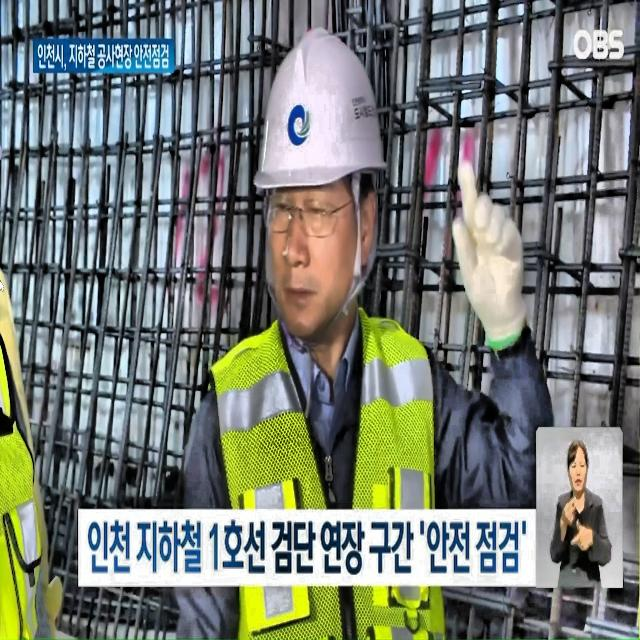safety_helmet: (252, 24, 392, 204)
safety_jacket: (206, 305, 460, 640), (0, 332, 51, 640)
